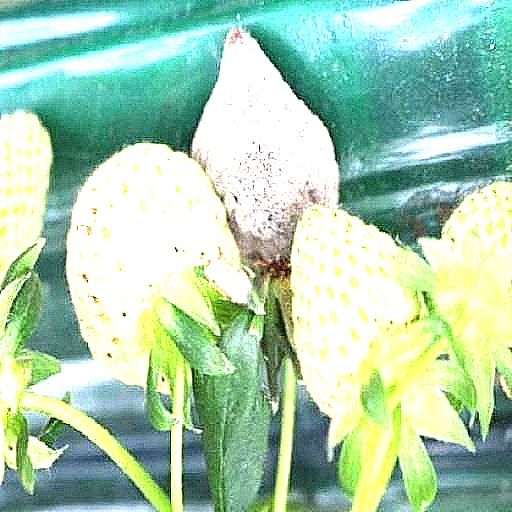Gray Mold: (191, 233, 339, 486)
